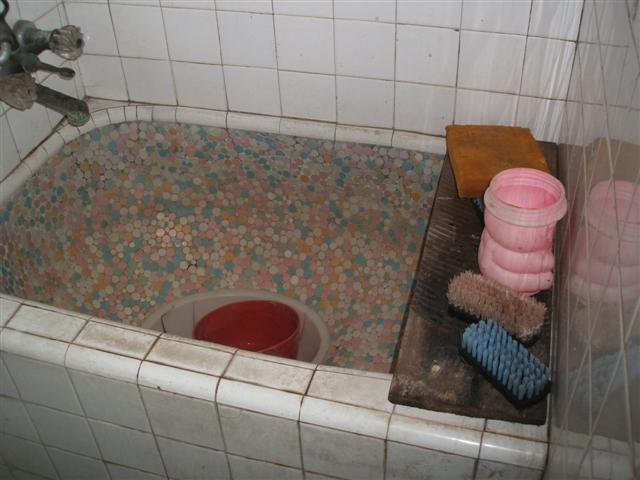bottle: (476, 167, 568, 297)
bowl: (140, 289, 330, 364), (191, 298, 301, 359)
tub: (2, 97, 558, 479)
